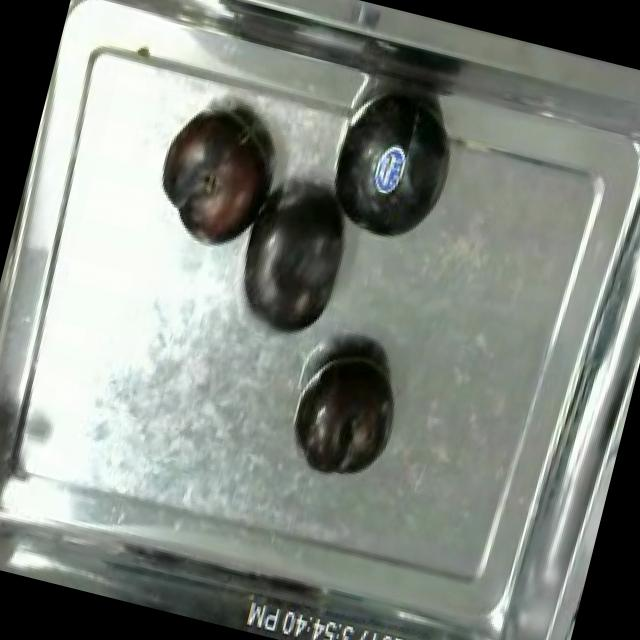Fruit: (313, 78, 476, 262), (224, 177, 364, 350), (146, 98, 290, 260), (288, 340, 410, 491)
